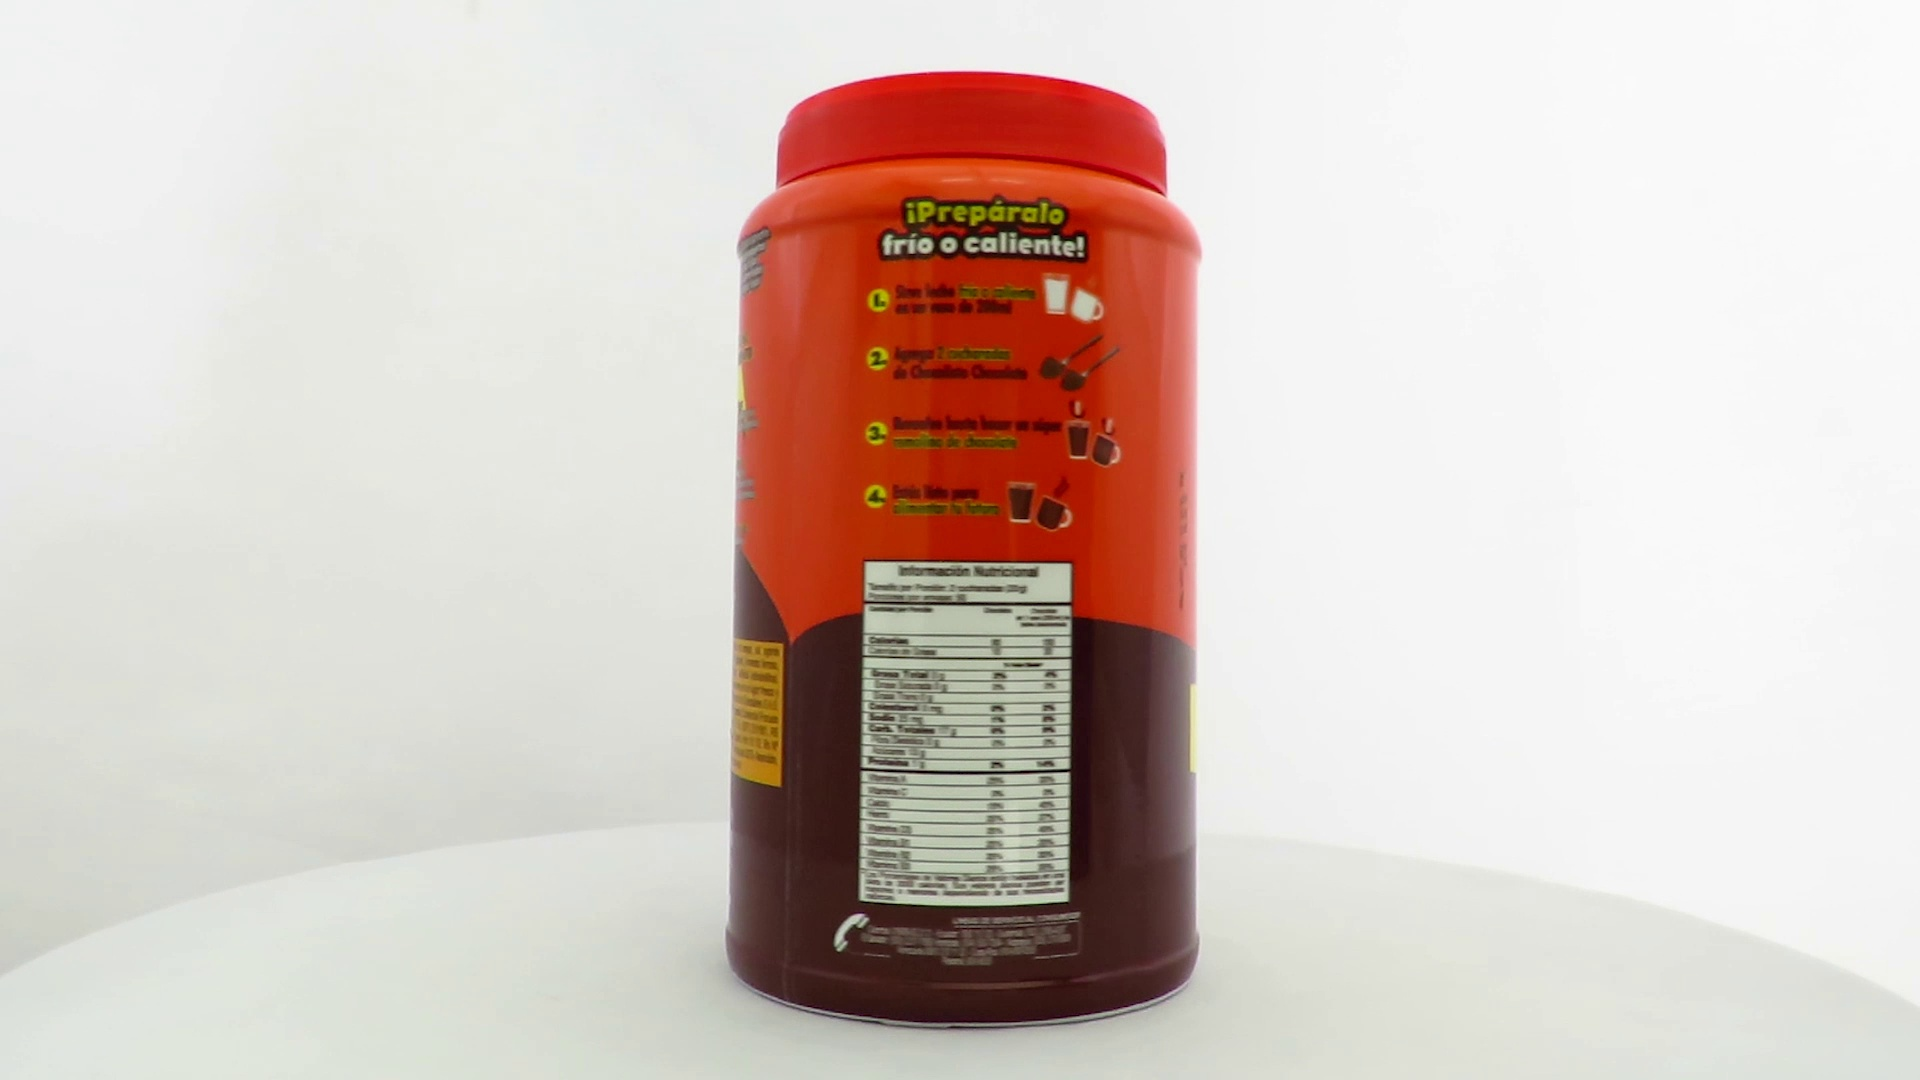COL0170103TRR00100: (720, 66, 1208, 1036)
